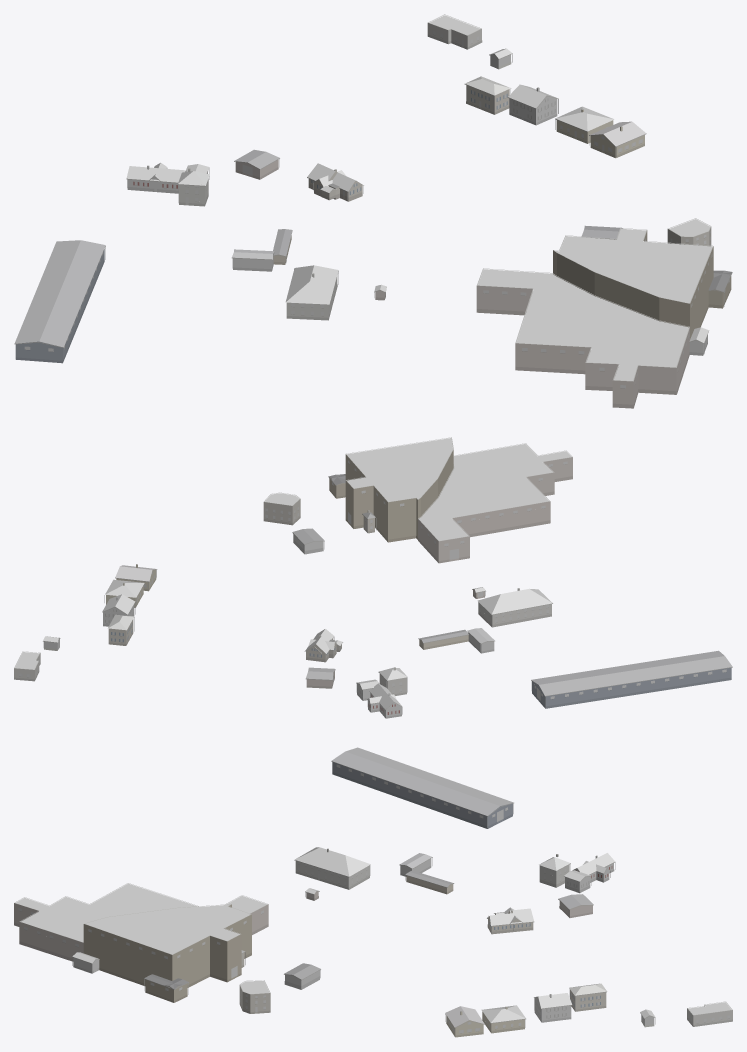
The picture shows the model from 3 angles, top to bottom: view 1: azimuth 30°, elevation 25°; view 2: azimuth 150°, elevation 25°; view 3: azimuth 270°, elevation 25°; orthographic projection. The views are drawn at different scales.
Parts seen in each view (by area): view 1: bld; view 2: bld; view 3: bld.
Boxes of the visible parts, x1=… form: bld: x1=14, y1=14, x2=732, y2=408; bld: x1=14, y1=437, x2=732, y2=718; bld: x1=14, y1=747, x2=732, y2=1037.
Size of the model in its own units: 259 by 19.07 by 282.
